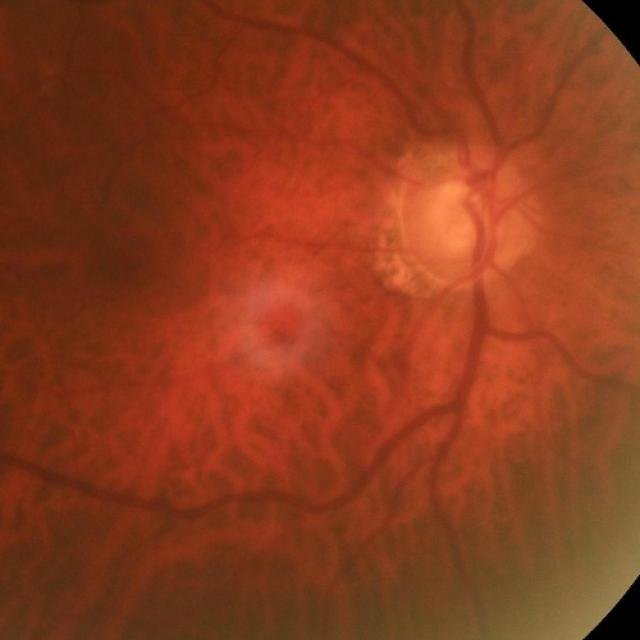OC: (434, 185, 492, 259)
OD: (399, 144, 538, 288)
